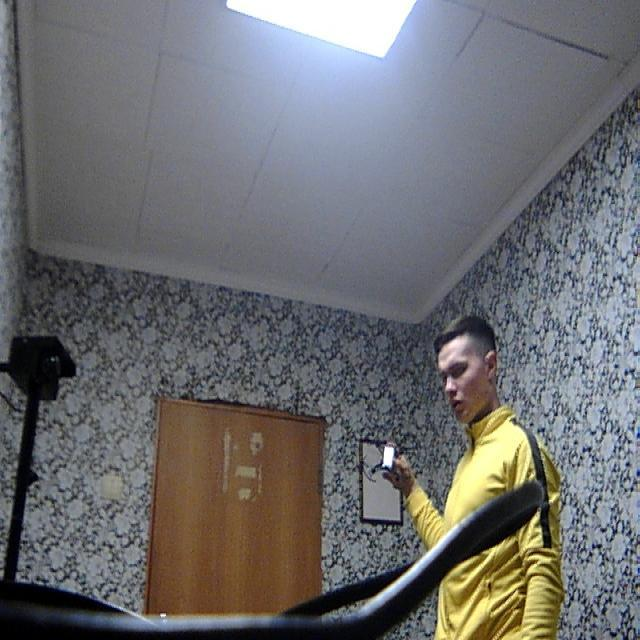drone: (357, 405, 425, 498)
